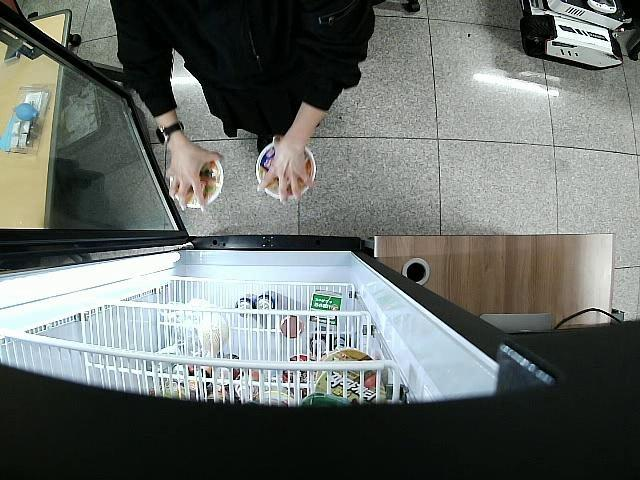09_yukGaeJang: (257, 142, 316, 202), (167, 157, 224, 208)
